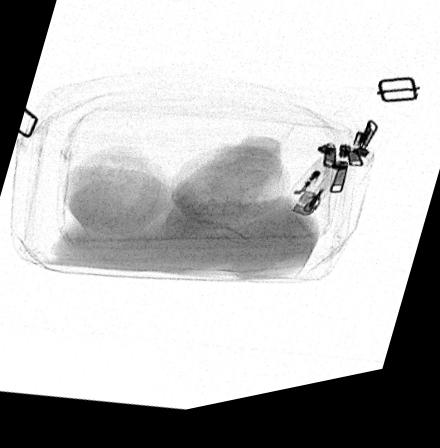Lighter: (280, 161, 355, 228)
